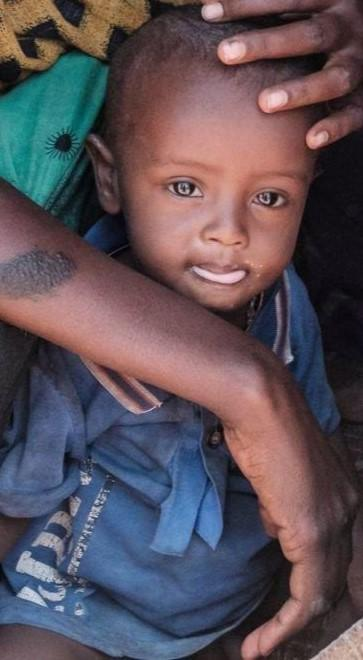Stunting: (67, 22, 363, 342)
